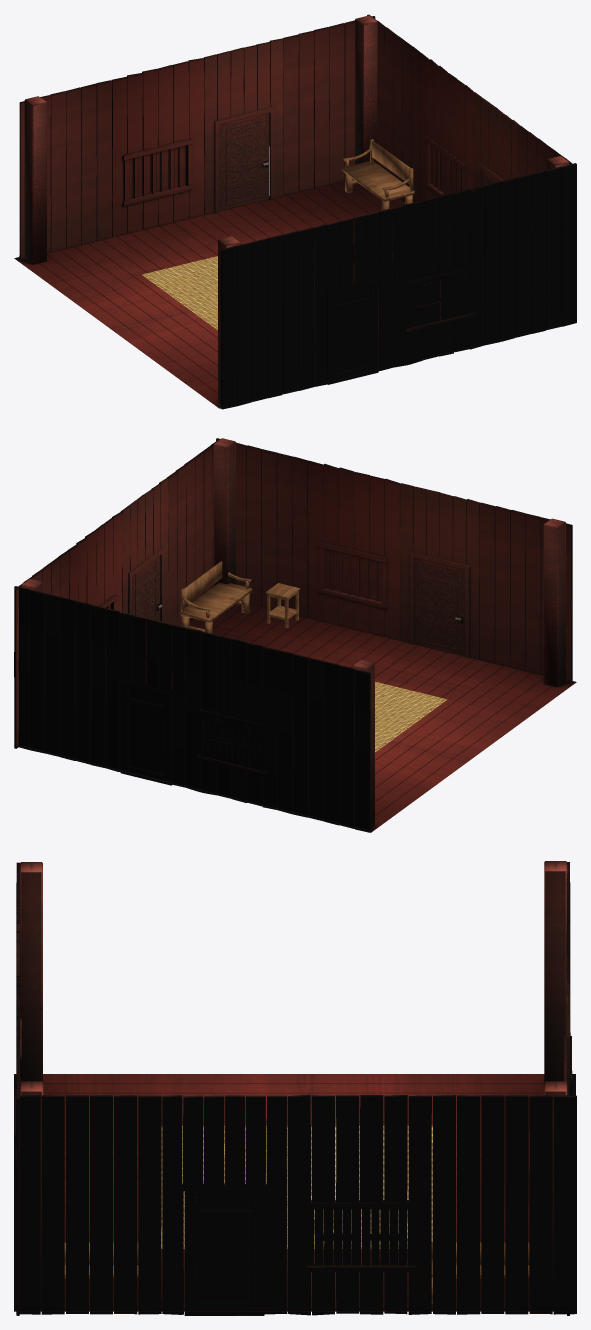
The model's file is Ruang_Utama.glb.
3 views of the same model, one above another, from view 1: azimuth 30°, elevation 25°; view 2: azimuth 150°, elevation 25°; view 3: azimuth 270°, elevation 25° (orthographic). The views are drawn at different scales.
Visible parts, largest first — view 1: Plane.001, tembok, tembok.001, tembok_jendela, tembok_jendela.002, tembok_pintu, tembok_pintu.002, tembok.005, tembok.004, tembok_jendela.001, tembok.003, Cube.004 (+6 smaller); view 2: Plane.001, tembok.005, tembok_jendela.002, tembok_jendela, tembok.004, tembok_pintu.002, tembok_pintu, tembok, tembok.001, tembok.002, tembok_pintu.001, tembok_jendela.001 (+7 smaller); view 3: tembok_jendela.001, tembok.003, tembok.002, tembok_pintu.001, Plane.001, Cube.004, Cube.001, Plane.002, tembok.001, tembok.004, Cube.003, Cube.002 (+2 smaller).
Boxes of the visible parts, x1,y1,x2,y2 form: Plane.001: [14, 179, 575, 408]; tembok: [221, 227, 313, 409]; tembok.001: [484, 163, 576, 345]; tembok_jendela: [392, 185, 484, 367]; tembok_jendela.002: [111, 58, 204, 237]; tembok_pintu: [313, 208, 392, 386]; tembok_pintu.002: [203, 38, 283, 214]; tembok.005: [19, 80, 112, 259]; tembok.004: [283, 16, 375, 195]; tembok_jendela.001: [420, 53, 474, 200]; tembok.003: [367, 14, 421, 202]; Cube.004: [24, 96, 46, 264]; Plane.001: [17, 604, 576, 832]; tembok.005: [278, 650, 370, 832]; tembok_jendela.002: [185, 628, 278, 809]; tembok_jendela: [308, 460, 400, 640]; tembok.004: [14, 586, 106, 768]; tembok_pintu.002: [106, 608, 186, 786]; tembok_pintu: [400, 483, 479, 660]; tembok: [479, 502, 572, 682]; tembok.001: [216, 438, 308, 618]; tembok.002: [167, 440, 218, 625]; tembok_pintu.001: [120, 478, 168, 623]; tembok_jendela.001: [67, 512, 122, 612]; tembok_jendela.001: [287, 1094, 431, 1315]; tembok.003: [432, 1095, 576, 1314]; tembok.002: [19, 1095, 161, 1314]; tembok_pintu.001: [162, 1095, 286, 1315]; Plane.001: [14, 1074, 575, 1311]; Cube.004: [544, 861, 567, 1081]; Cube.001: [20, 862, 42, 1081]; Plane.002: [161, 1126, 432, 1248]; tembok.001: [16, 1038, 19, 1315]; tembok.004: [566, 1037, 570, 1315]; Cube.003: [544, 1081, 567, 1308]; Cube.002: [20, 1081, 43, 1308].
Size of the model in its own units: 2.45 by 1.07 by 2.44.
Materials: 8 (8 with a texture image).
